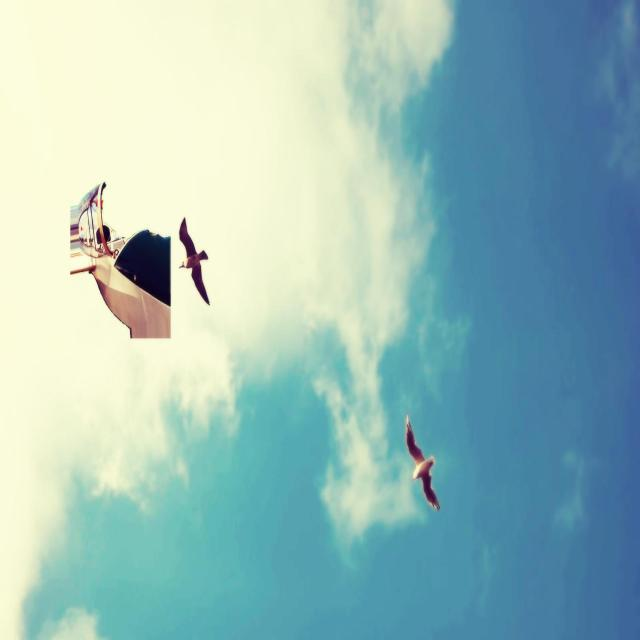airplane: (69, 180, 171, 339)
